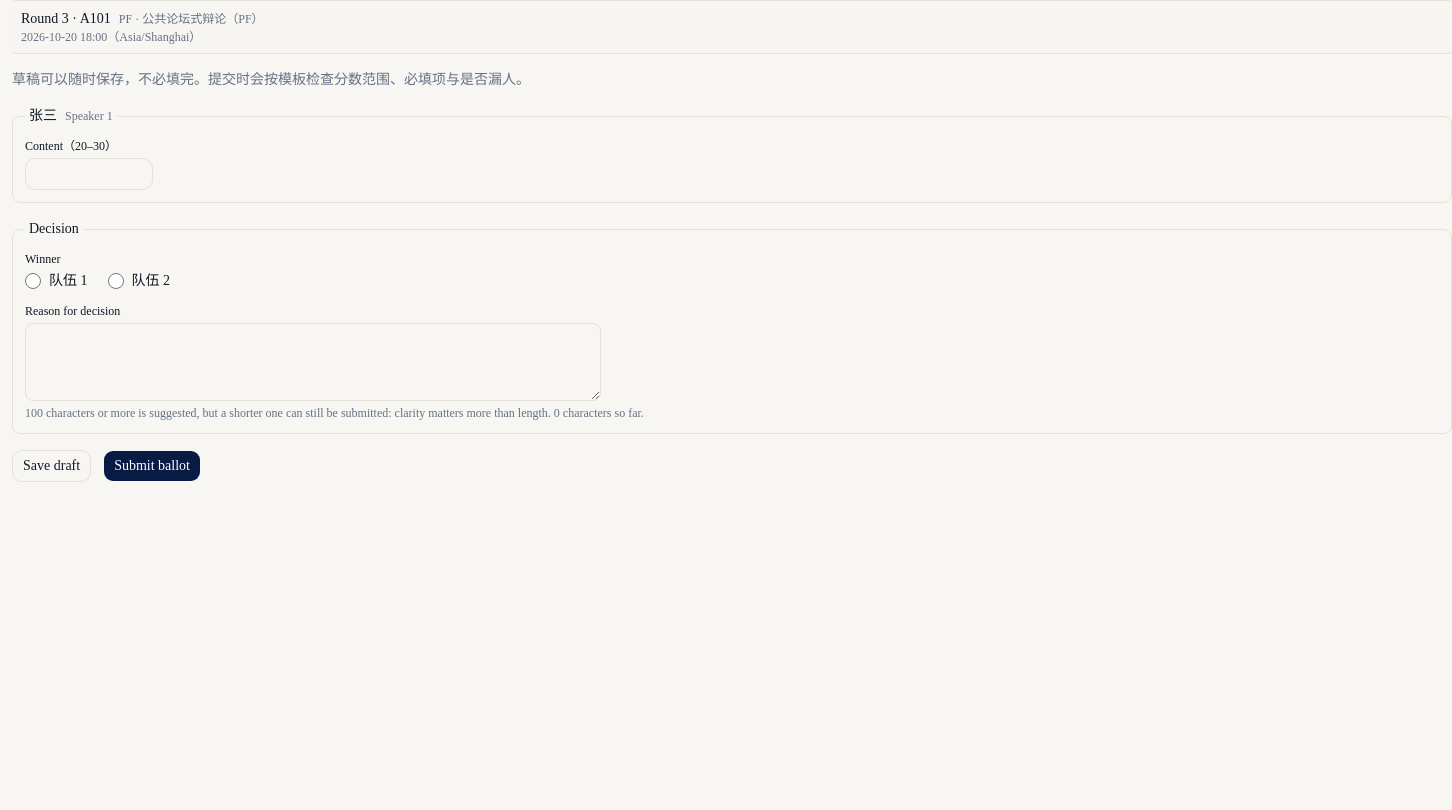
it: 提交前的一步确认（规范 §9.3：Submission dialog） › 点「提交评分表」不会立刻提交，而是先给出摘要
Expected: the heading "Submit this ballot?" is not shown
Click the button "Submit ballot".
click(152, 466)  # box x1=103 y1=450 x2=201 y2=482
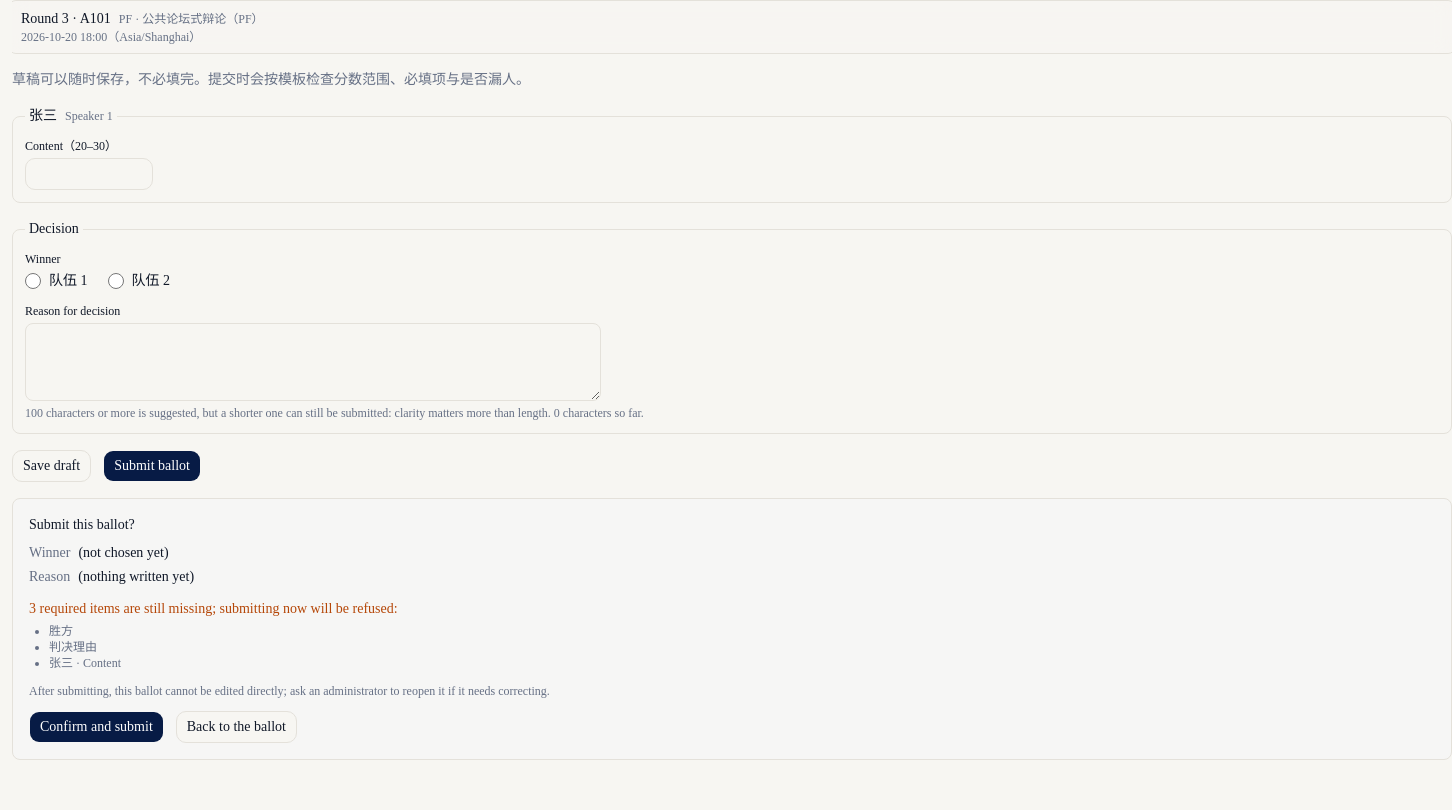
Expected: the heading "Submit this ballot?" is shown, x1=29 y1=517 x2=135 y2=532
